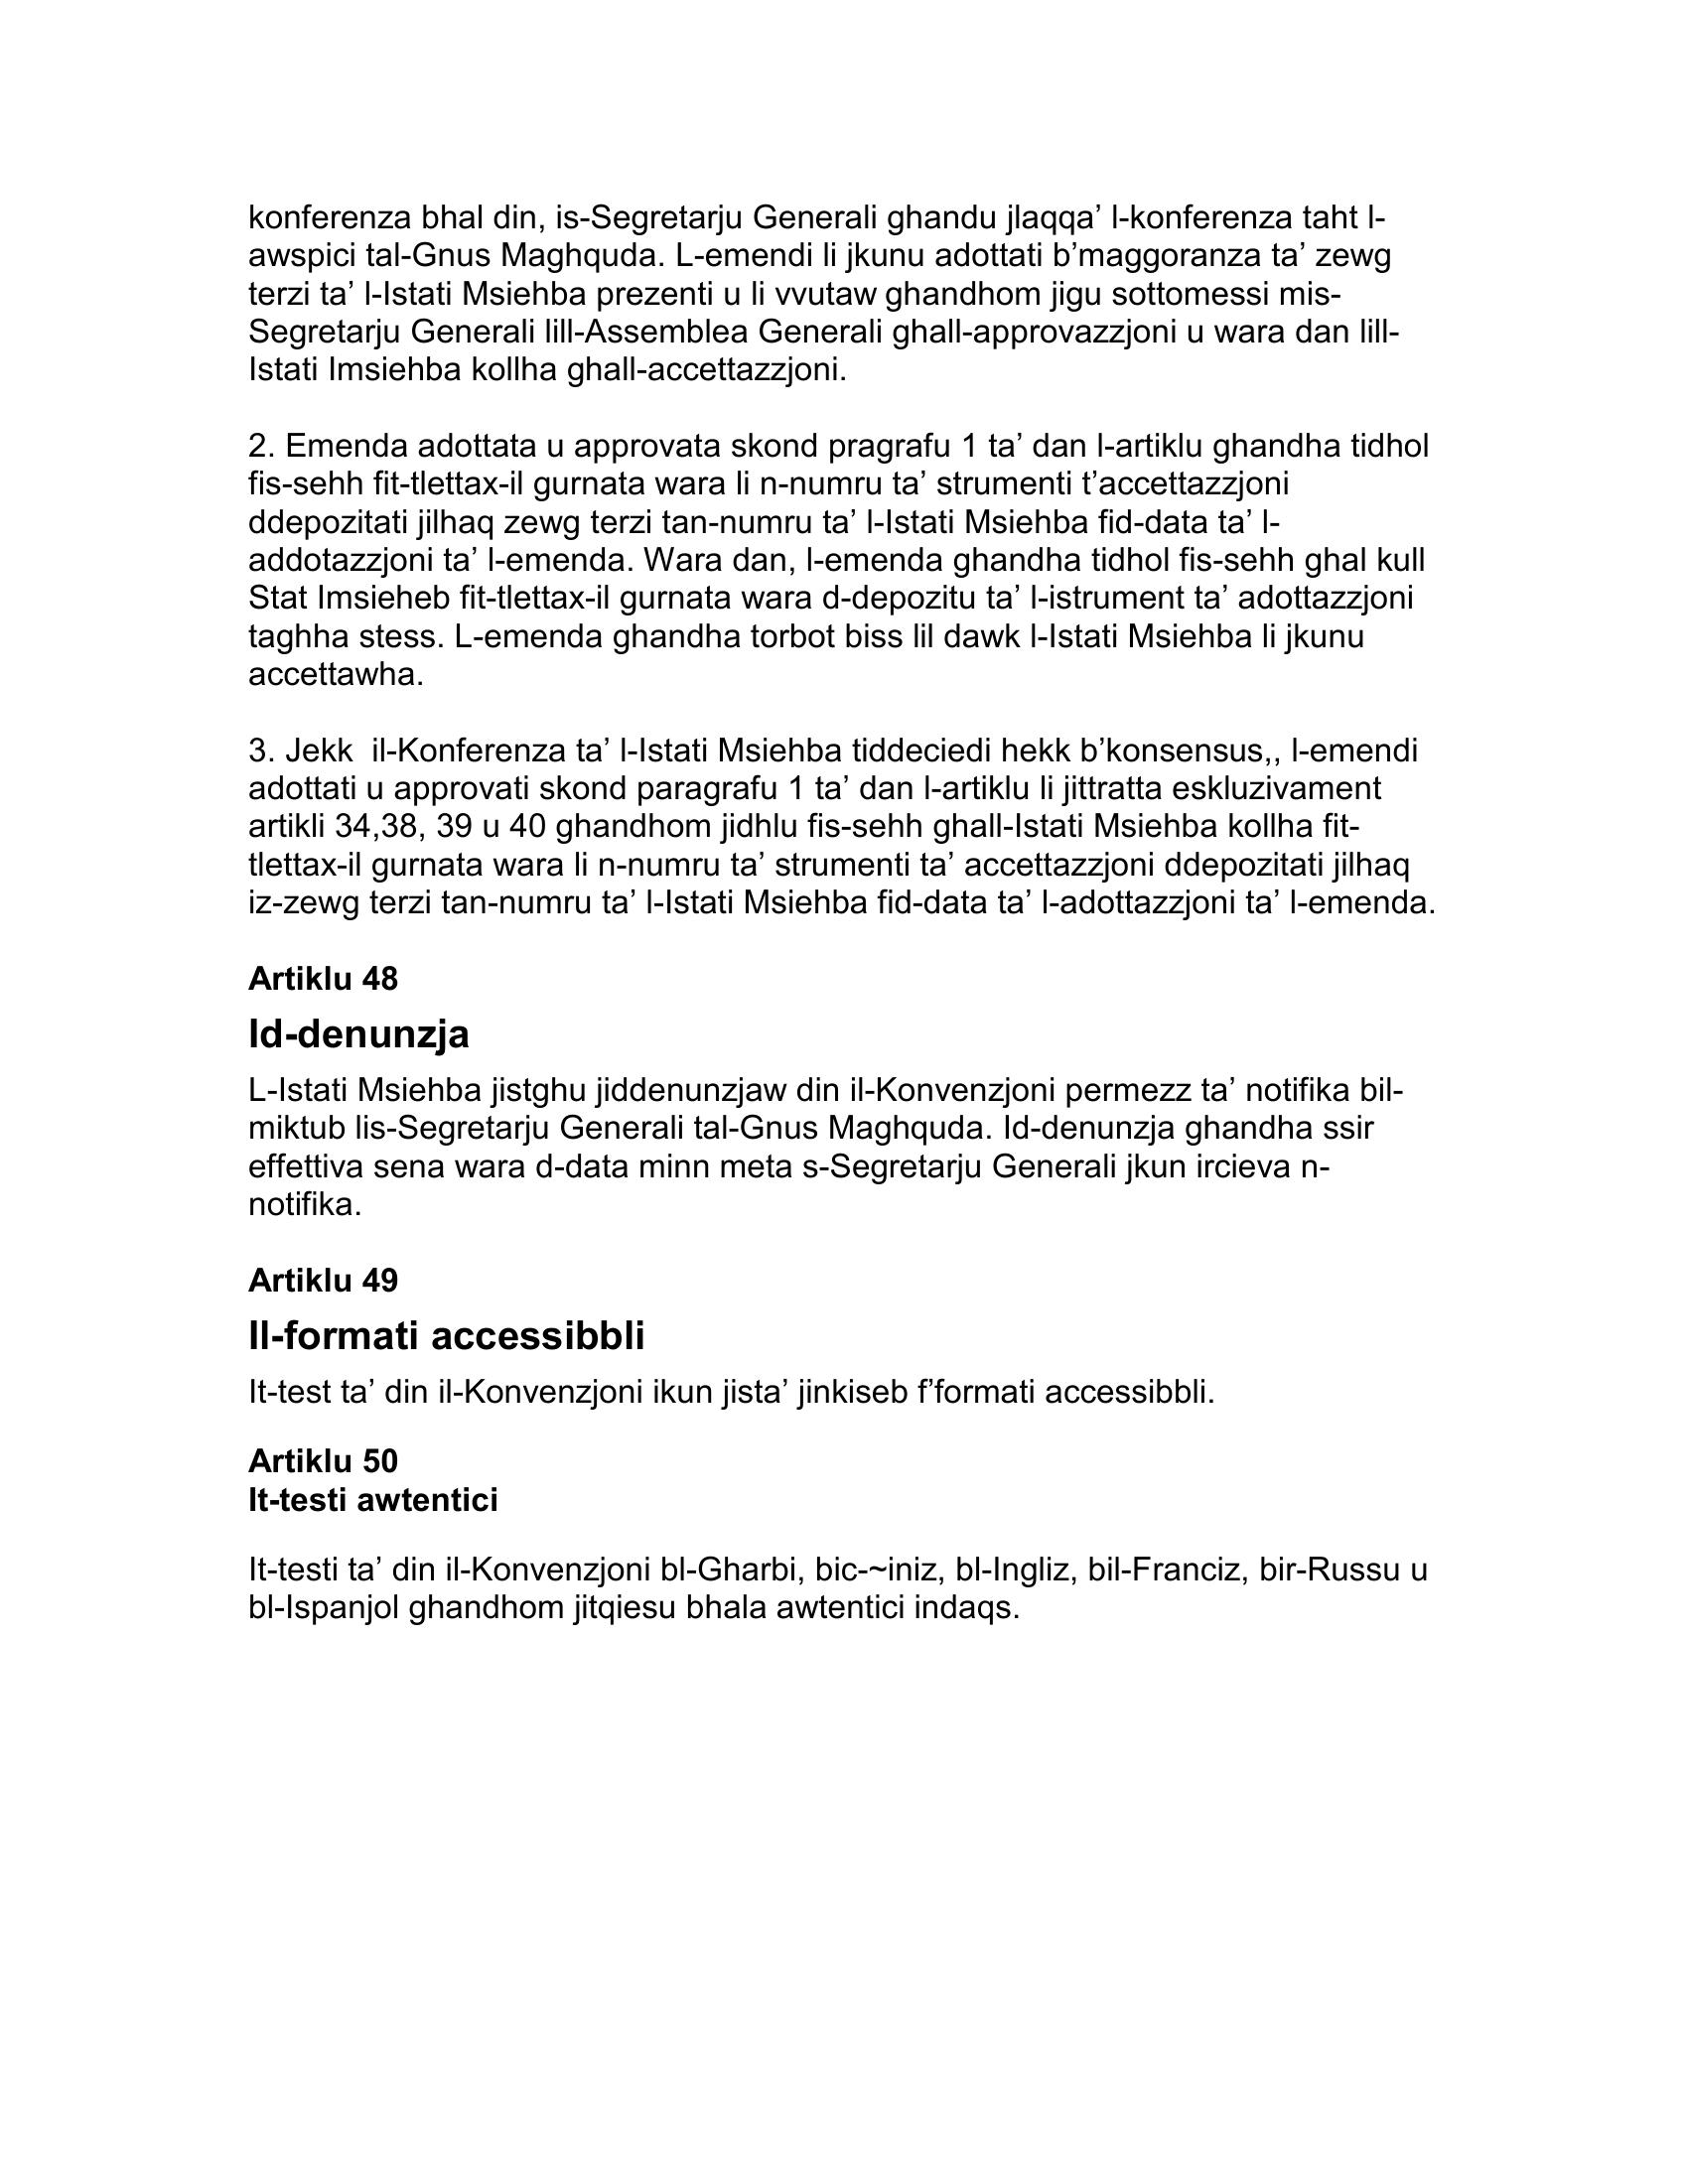text: (218, 172, 1457, 1659)
